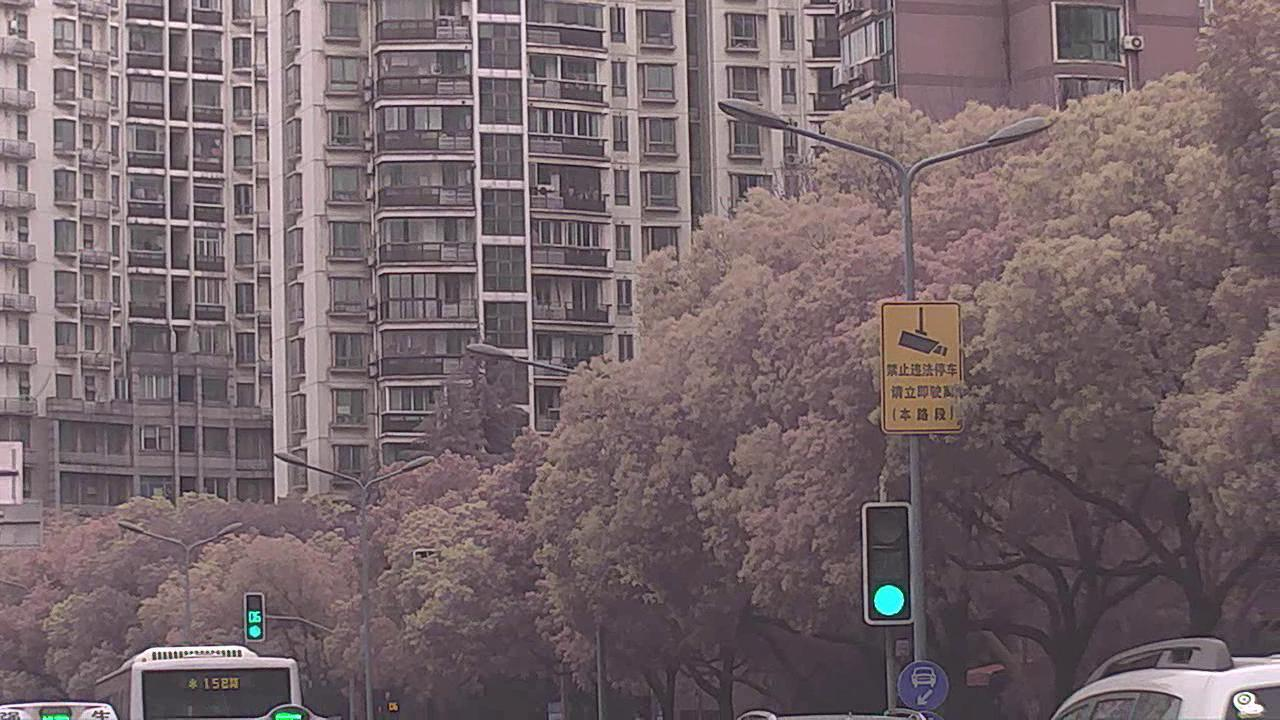traffic_light: (859, 501, 917, 625), (244, 591, 266, 641)
